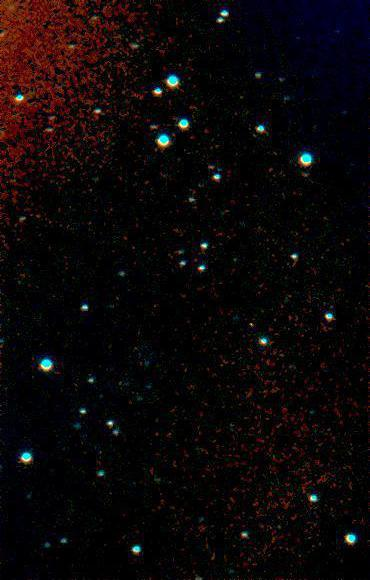star: (102, 369, 132, 399)
